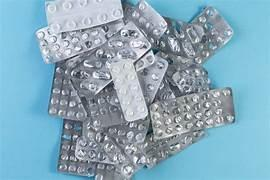pill_Strip: (58, 18, 234, 178), (72, 22, 150, 95), (49, 59, 124, 127), (150, 88, 235, 139), (158, 7, 232, 63), (58, 119, 127, 179), (36, 20, 123, 62), (98, 118, 149, 177), (98, 118, 149, 176), (81, 85, 148, 128), (156, 18, 203, 78), (183, 7, 233, 63), (164, 94, 233, 132), (99, 118, 149, 169), (45, 0, 122, 32), (36, 27, 106, 62), (84, 129, 134, 177), (48, 60, 87, 121), (157, 52, 210, 96), (110, 60, 147, 121), (57, 119, 96, 176), (144, 130, 204, 167), (146, 131, 203, 167), (83, 128, 131, 169), (101, 22, 150, 61), (81, 85, 124, 128), (156, 51, 196, 96), (71, 51, 110, 96), (103, 136, 145, 177), (127, 0, 166, 43), (71, 53, 110, 96), (191, 6, 232, 42), (83, 128, 125, 163), (166, 64, 210, 96), (144, 131, 204, 154), (138, 56, 167, 103), (156, 51, 196, 85), (97, 117, 149, 143), (143, 130, 204, 152), (104, 136, 136, 177), (173, 22, 205, 63), (137, 0, 167, 43), (75, 130, 114, 163), (144, 133, 180, 167), (144, 133, 179, 167), (156, 51, 182, 96), (154, 17, 184, 55), (81, 85, 119, 115), (172, 65, 210, 95), (106, 117, 149, 143), (112, 138, 146, 170), (115, 142, 146, 177), (175, 21, 200, 63), (156, 51, 180, 83), (101, 136, 127, 165), (143, 132, 178, 153), (134, 51, 155, 85), (143, 133, 180, 152), (122, 143, 147, 170), (167, 54, 200, 70), (154, 77, 175, 101), (56, 58, 81, 78), (95, 164, 128, 179), (134, 50, 156, 72), (163, 16, 186, 37), (100, 19, 125, 38), (70, 49, 95, 68), (163, 17, 186, 37), (134, 50, 155, 71), (116, 156, 136, 178), (165, 58, 180, 85), (104, 83, 120, 107), (122, 0, 136, 25), (117, 161, 136, 178), (95, 163, 114, 179), (122, 0, 134, 22), (122, 0, 134, 17), (108, 90, 120, 107), (108, 170, 130, 179), (107, 91, 119, 106), (169, 82, 181, 96), (147, 120, 152, 134)
